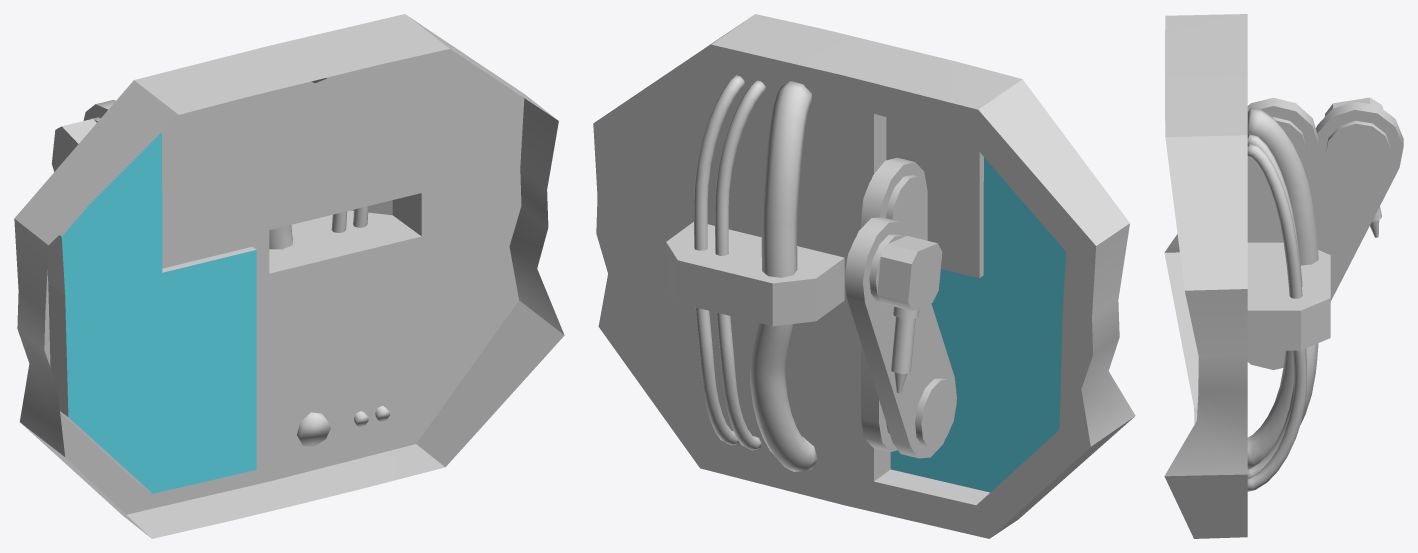
File: Mod_BackPlate_Forge2.fbx
3 views of the same model, side by side, from view 1: azimuth 30°, elevation 25°; view 2: azimuth 150°, elevation 25°; view 3: azimuth 270°, elevation 25° (orthographic). The views are drawn at different scales.
Parts seen in each view (by area): view 1: Mod_BackPlate_Forge2; view 2: Mod_BackPlate_Forge2; view 3: Mod_BackPlate_Forge2.
Part boxes in pixels (x1,y1,x2,y2): Mod_BackPlate_Forge2: (14,14,564,538); Mod_BackPlate_Forge2: (593,14,1135,538); Mod_BackPlate_Forge2: (1164,14,1403,538).
Size of the model in its own units: 326 by 268 by 145.
